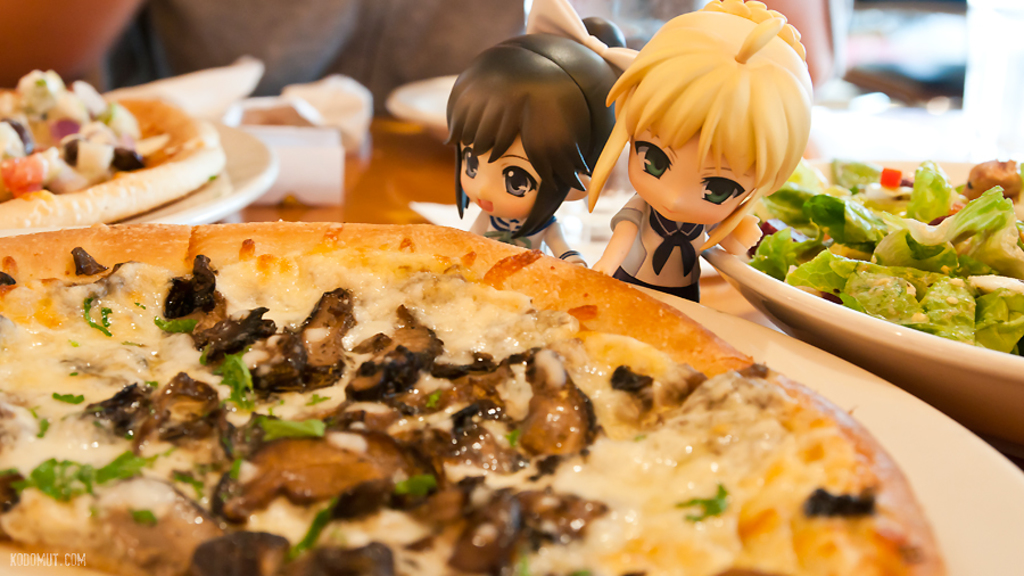Pizza: (4, 200, 951, 572), (0, 61, 232, 221)
